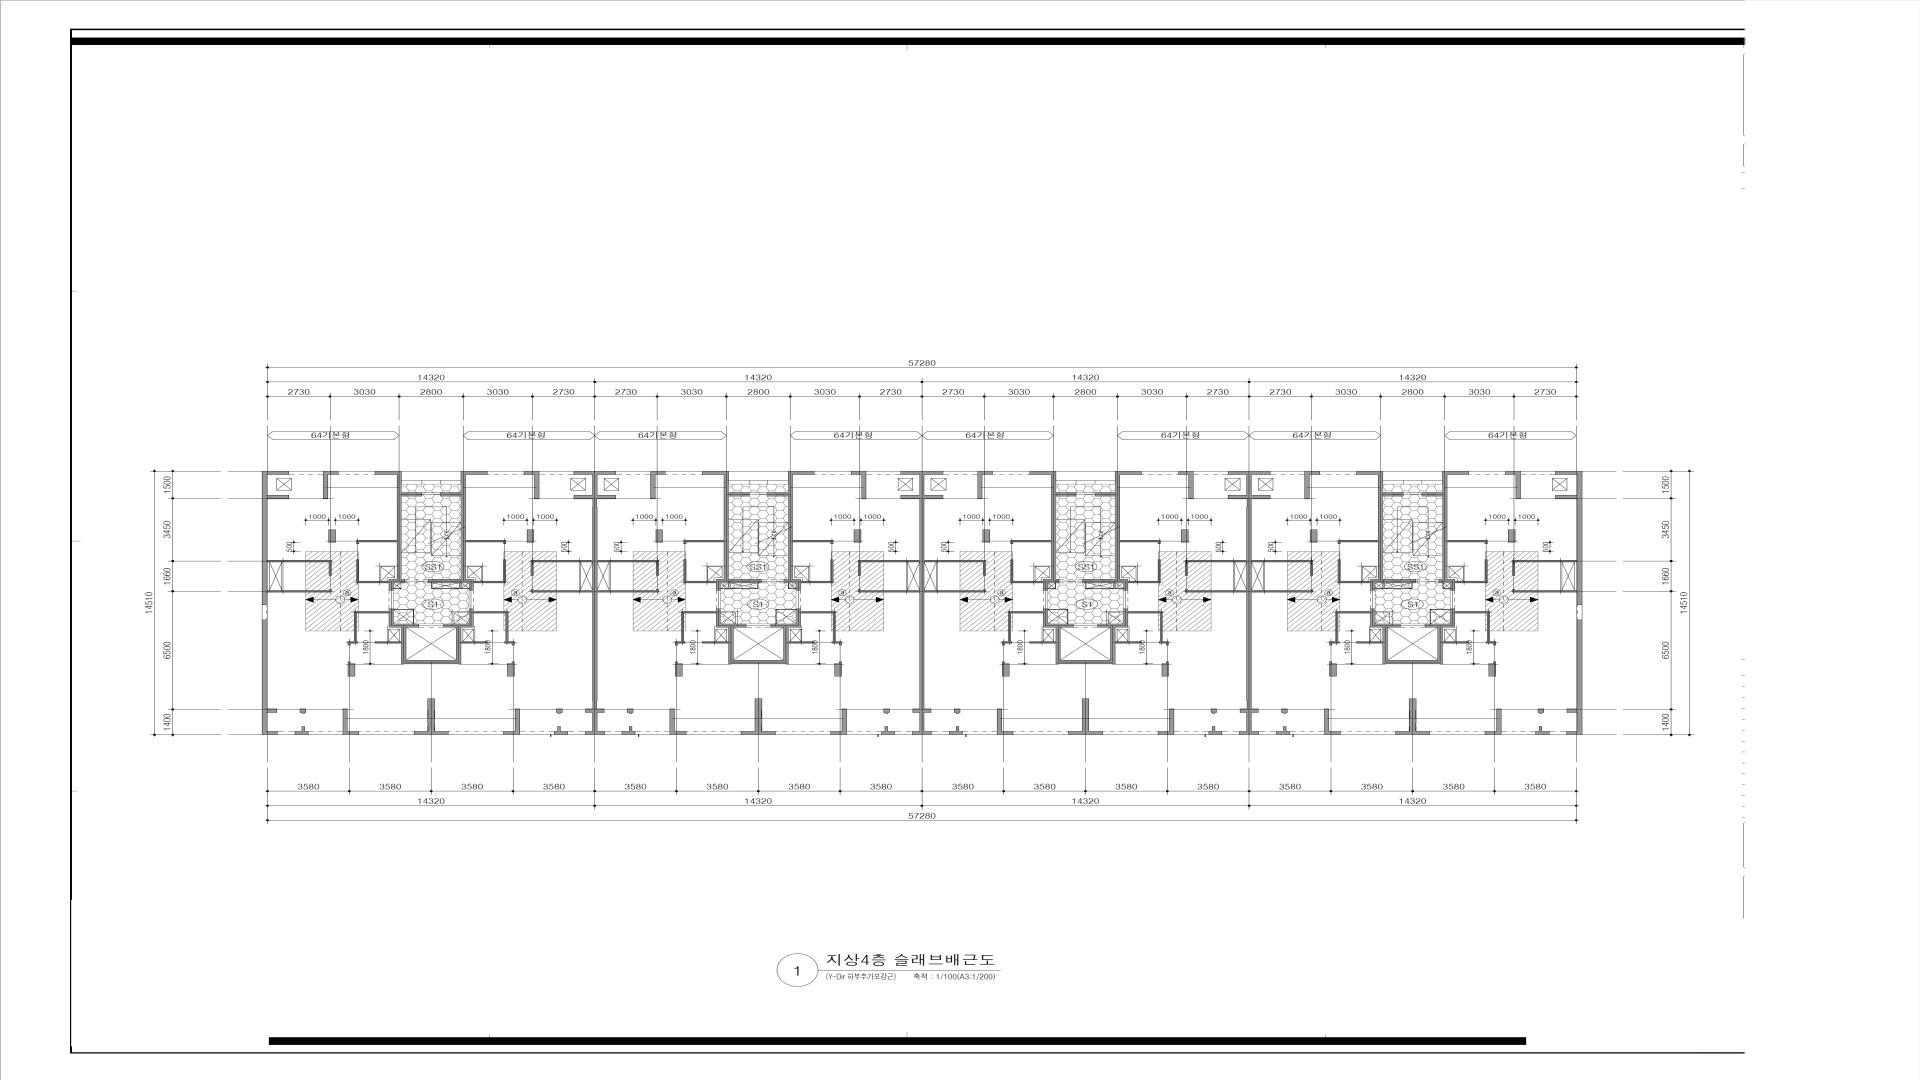wall: (1555, 471, 1582, 605), (460, 471, 488, 591), (787, 471, 815, 591), (702, 471, 729, 591), (1030, 471, 1056, 591), (1116, 471, 1142, 591), (1443, 471, 1469, 591), (1357, 471, 1383, 591), (389, 609, 419, 665), (443, 609, 473, 665), (716, 609, 746, 665), (770, 609, 800, 665), (1043, 609, 1073, 665), (1370, 609, 1400, 665), (1097, 609, 1127, 665), (1424, 609, 1455, 663), (414, 699, 448, 735), (741, 699, 775, 735), (1068, 699, 1102, 735), (1395, 699, 1429, 735), (1246, 498, 1251, 708), (919, 500, 924, 708), (1513, 560, 1577, 576), (592, 508, 597, 700), (574, 471, 616, 495), (901, 471, 943, 495), (1228, 471, 1270, 495), (1184, 560, 1246, 576), (924, 560, 986, 576), (1251, 560, 1313, 576), (858, 560, 919, 576), (356, 559, 389, 583), (473, 559, 506, 583), (683, 559, 716, 583), (1010, 559, 1043, 583), (1337, 559, 1370, 583), (800, 559, 833, 583), (1127, 559, 1160, 583), (1455, 559, 1487, 583), (585, 700, 605, 735), (1240, 708, 1259, 735), (397, 480, 402, 579), (913, 708, 931, 735), (1577, 620, 1582, 708), (851, 471, 866, 500), (1324, 708, 1341, 735), (323, 471, 339, 498), (524, 471, 539, 498), (977, 471, 993, 498), (1304, 471, 1320, 498), (262, 498, 266, 605), (1179, 471, 1193, 500), (1506, 471, 1520, 500), (343, 708, 359, 735), (504, 708, 520, 735), (831, 708, 847, 735), (1485, 708, 1501, 735), (1567, 708, 1582, 735), (650, 471, 665, 498), (670, 709, 686, 735), (997, 709, 1013, 735), (1158, 709, 1174, 735), (262, 620, 266, 708), (262, 712, 277, 735), (1387, 659, 1437, 665), (406, 659, 456, 665), (733, 659, 783, 665), (356, 539, 397, 545), (465, 539, 506, 545), (793, 539, 833, 545), (1120, 539, 1160, 545), (1010, 539, 1051, 545), (1338, 539, 1378, 545), (1060, 661, 1110, 665), (389, 579, 405, 591), (266, 589, 331, 592), (1513, 589, 1577, 592), (574, 495, 616, 498), (901, 495, 943, 498), (1228, 495, 1270, 498), (597, 589, 659, 592), (1251, 589, 1313, 592), (683, 541, 724, 545), (1447, 541, 1487, 545), (531, 589, 592, 592), (858, 589, 919, 592), (1185, 589, 1246, 592), (924, 589, 985, 592), (1083, 579, 1116, 583), (1383, 579, 1416, 583), (429, 579, 460, 583), (729, 579, 761, 583), (294, 727, 309, 735), (554, 727, 568, 735), (621, 727, 636, 735), (881, 727, 895, 735), (1208, 727, 1222, 735), (1535, 727, 1549, 735), (675, 662, 683, 676), (1329, 662, 1337, 676), (375, 471, 402, 475), (353, 613, 357, 641), (505, 613, 509, 641), (1007, 613, 1011, 641), (262, 471, 289, 475), (262, 495, 289, 498), (949, 727, 963, 735), (1276, 727, 1290, 735), (348, 662, 355, 676), (508, 662, 514, 676), (1002, 662, 1009, 676), (835, 662, 841, 676), (1162, 662, 1168, 676), (1489, 662, 1495, 676), (328, 530, 336, 542), (655, 530, 663, 542), (982, 530, 990, 542), (353, 611, 389, 613), (473, 611, 509, 613), (800, 611, 836, 613), (1007, 611, 1043, 613), (1127, 611, 1163, 613), (1455, 611, 1490, 613), (682, 611, 716, 613), (1336, 611, 1370, 613), (1555, 495, 1577, 498), (266, 560, 331, 562), (401, 492, 422, 496), (440, 492, 462, 496), (728, 492, 749, 496), (767, 492, 789, 496), (1095, 492, 1116, 496), (1422, 492, 1443, 496), (597, 560, 659, 562), (531, 560, 592, 562), (262, 475, 266, 495), (527, 530, 534, 542), (855, 530, 861, 542), (1182, 530, 1188, 542), (1311, 530, 1317, 542), (1509, 530, 1515, 542), (1383, 492, 1403, 496), (1056, 492, 1076, 496), (682, 613, 684, 641), (833, 613, 836, 641), (1160, 613, 1163, 641), (1336, 613, 1338, 641), (1487, 613, 1490, 641), (1029, 641, 1056, 644), (1357, 641, 1383, 644), (1443, 641, 1469, 644), (375, 641, 401, 644), (702, 641, 728, 644), (789, 641, 815, 644), (1116, 641, 1142, 644), (462, 641, 487, 644), (262, 708, 277, 712), (655, 562, 659, 576), (592, 498, 597, 508), (1329, 641, 1340, 645), (1486, 641, 1497, 645), (675, 641, 686, 645), (1002, 641, 1013, 645), (328, 562, 331, 576), (531, 562, 534, 576), (1159, 641, 1168, 645), (348, 641, 357, 645), (505, 641, 514, 645), (832, 641, 841, 645), (299, 708, 306, 713), (556, 708, 563, 713), (953, 708, 960, 713), (884, 708, 890, 713), (1211, 708, 1217, 713), (1538, 708, 1544, 713), (397, 475, 402, 480), (628, 708, 633, 713), (1282, 708, 1287, 713), (1439, 579, 1443, 583), (785, 579, 787, 583), (1056, 579, 1059, 583)
